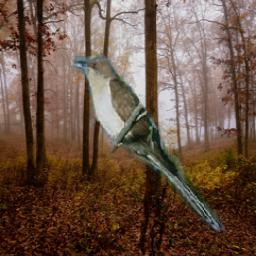Cuckoo: (69, 53, 225, 239)
